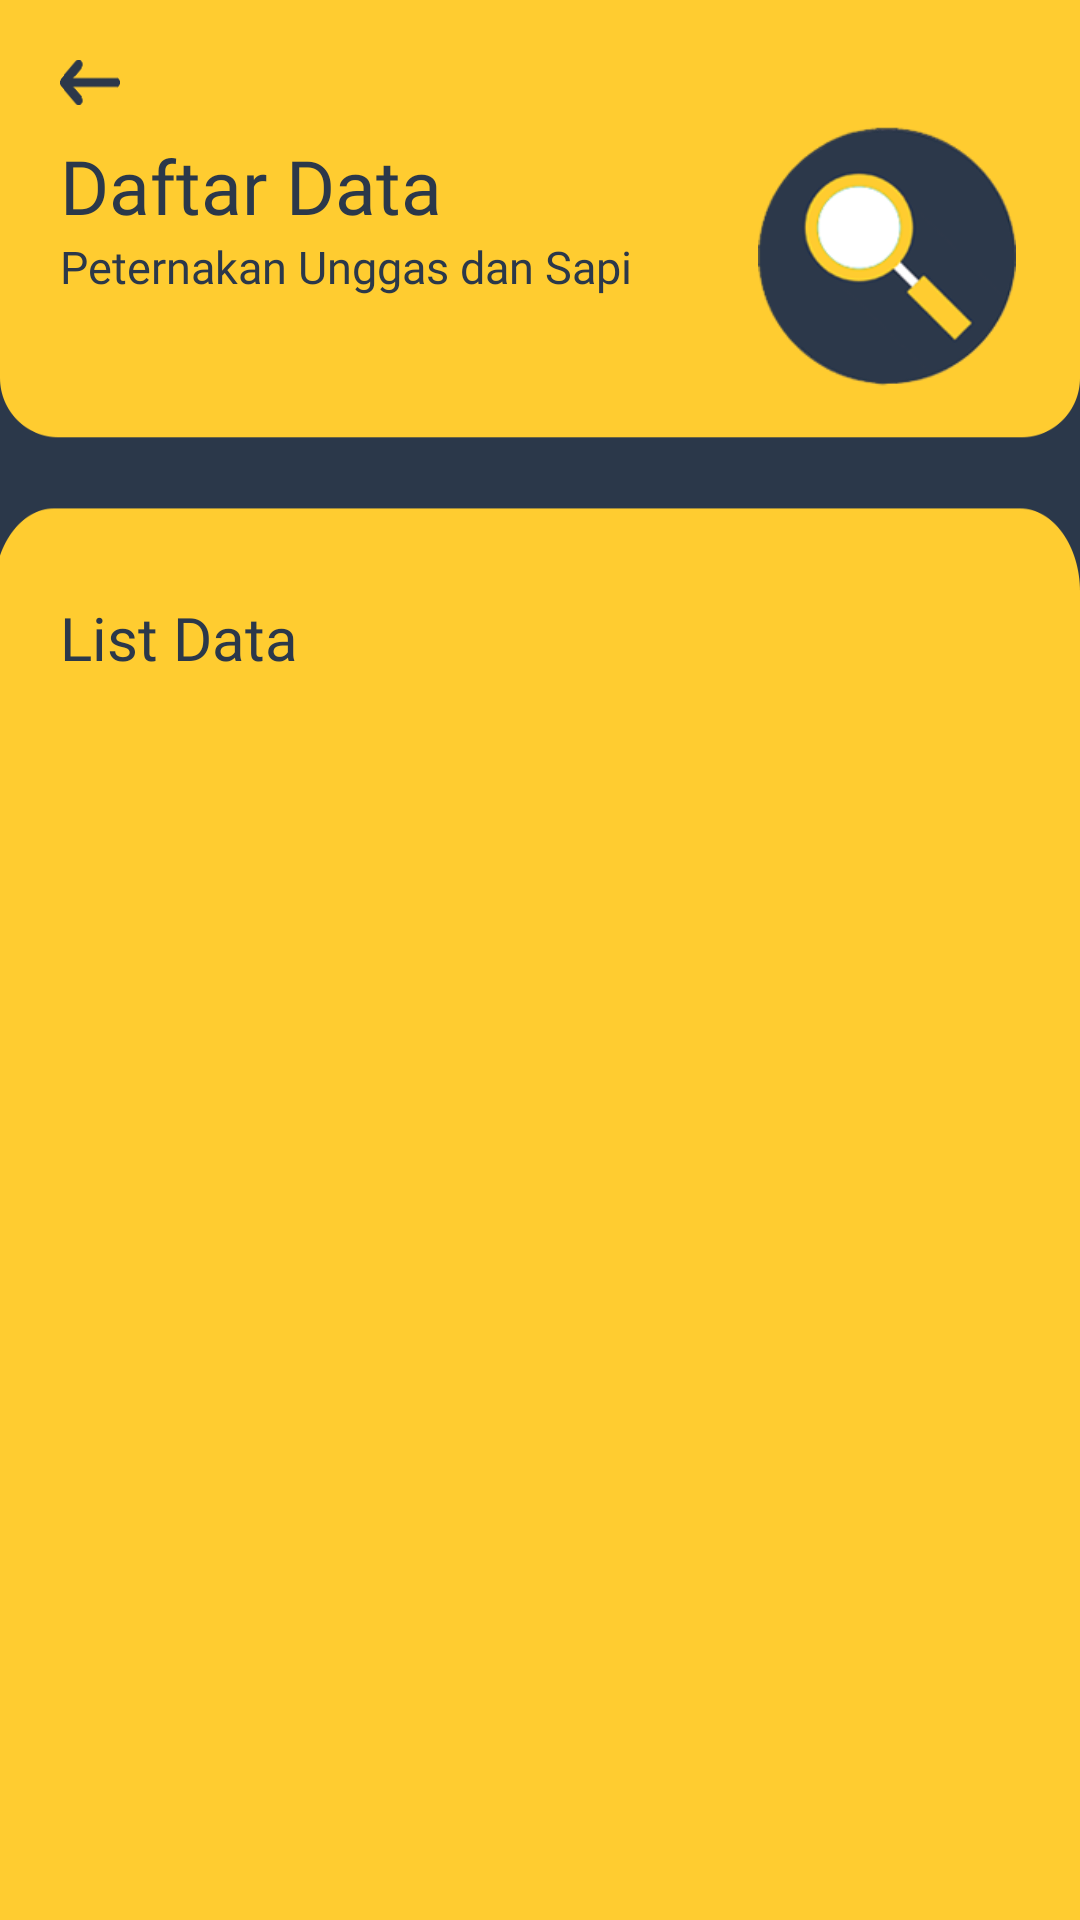

Icon bounding boxes for this 1080x1920 phone screenshot, format (x1, y1, x2, y2):
btnback: (60, 60, 120, 105)
